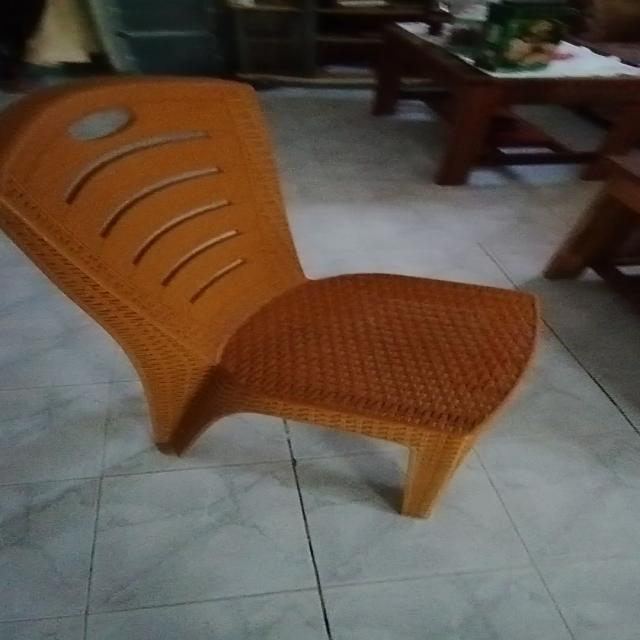chair: (0, 70, 539, 518)
